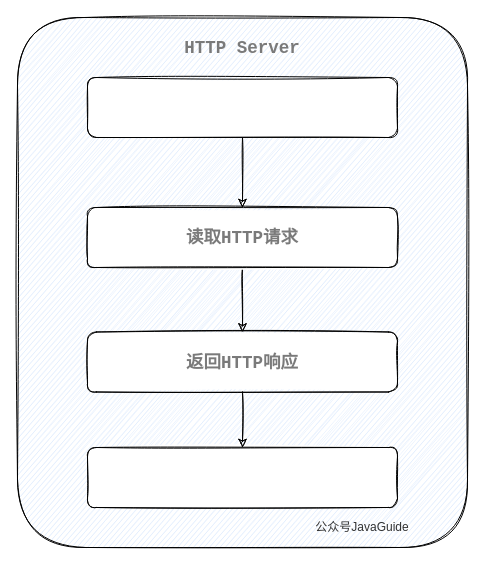
The diagram is 485 pixels wide and 565 high, and some of its shapes have lost their labels. The shapes that lost their labels are listed below. From the top down, each one's centre as x and y in pixels, then its label:
At [242,107]: "HttpRequestDecoder解码".
At [242,477]: "HttpResponseEncoder编码".
